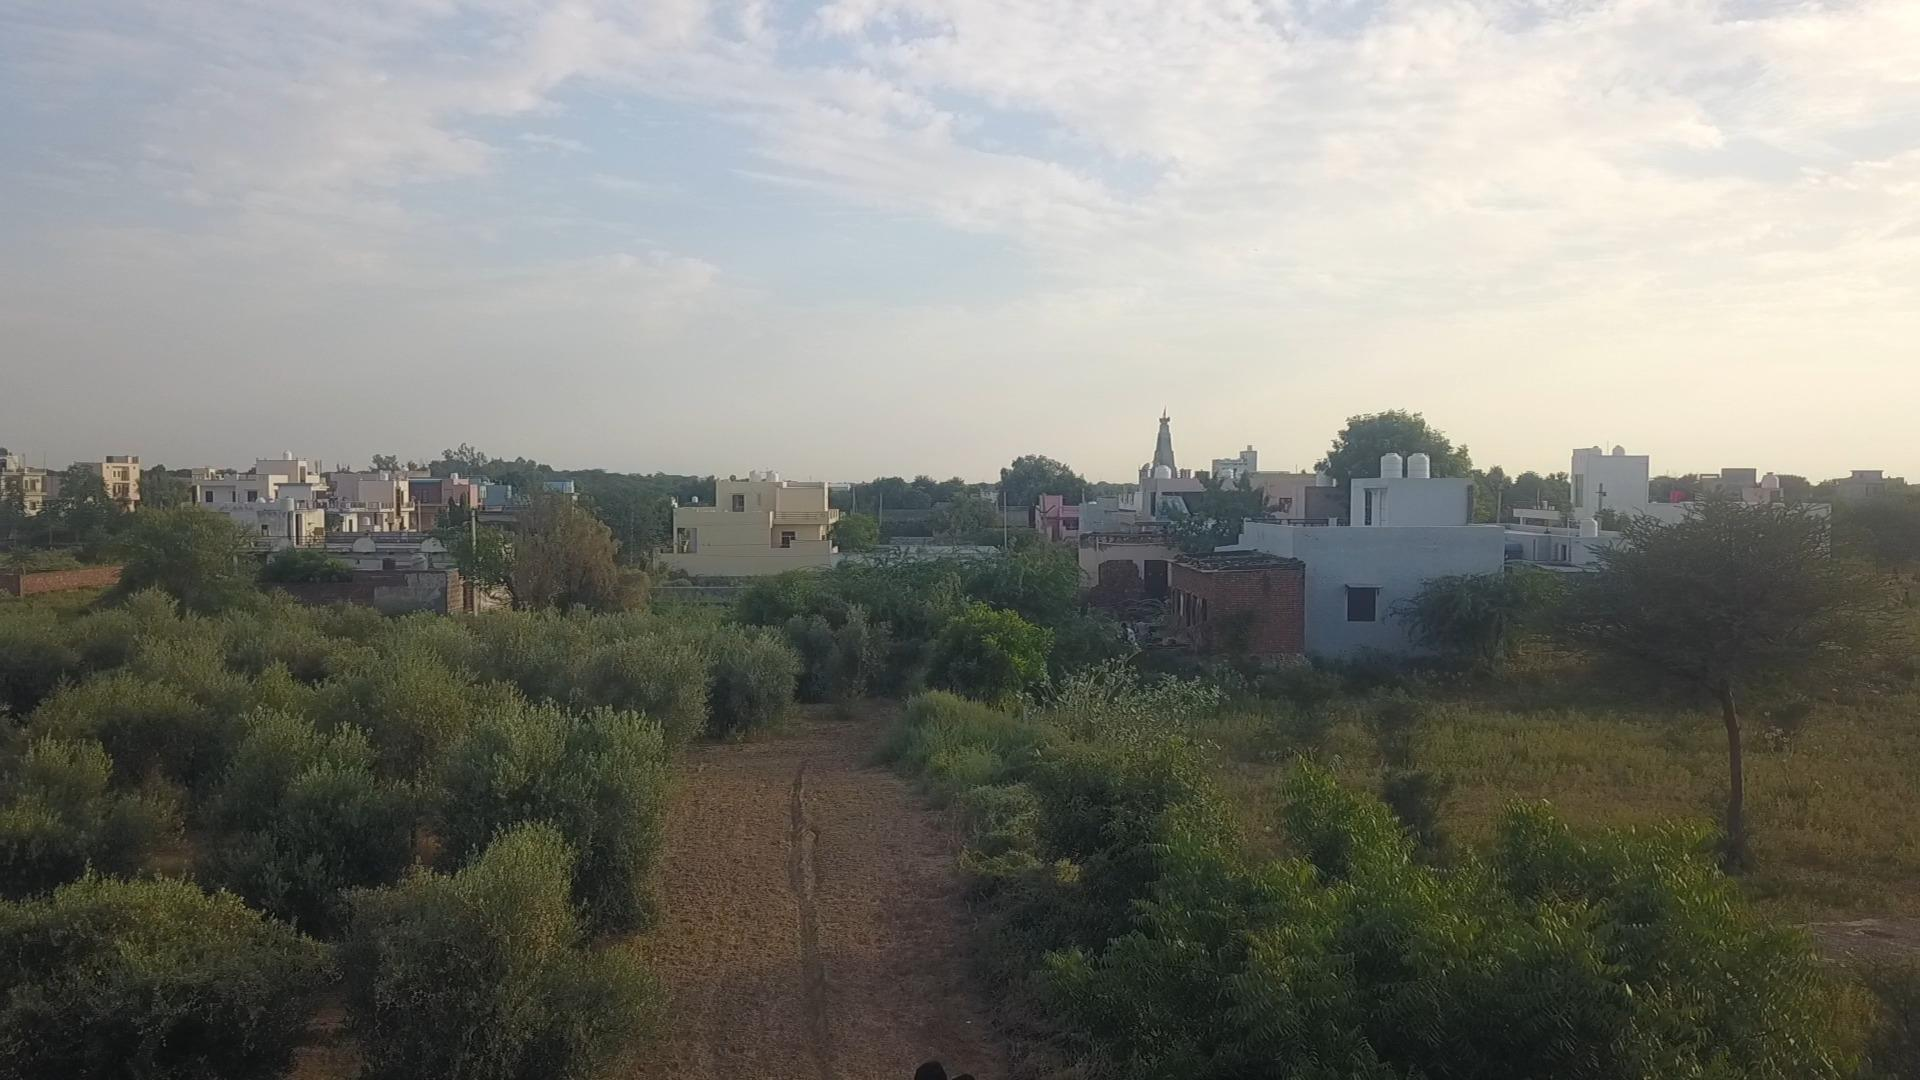canopy: (899, 604, 1858, 1079), (0, 597, 799, 1079)
road: (630, 709, 1006, 1079)
